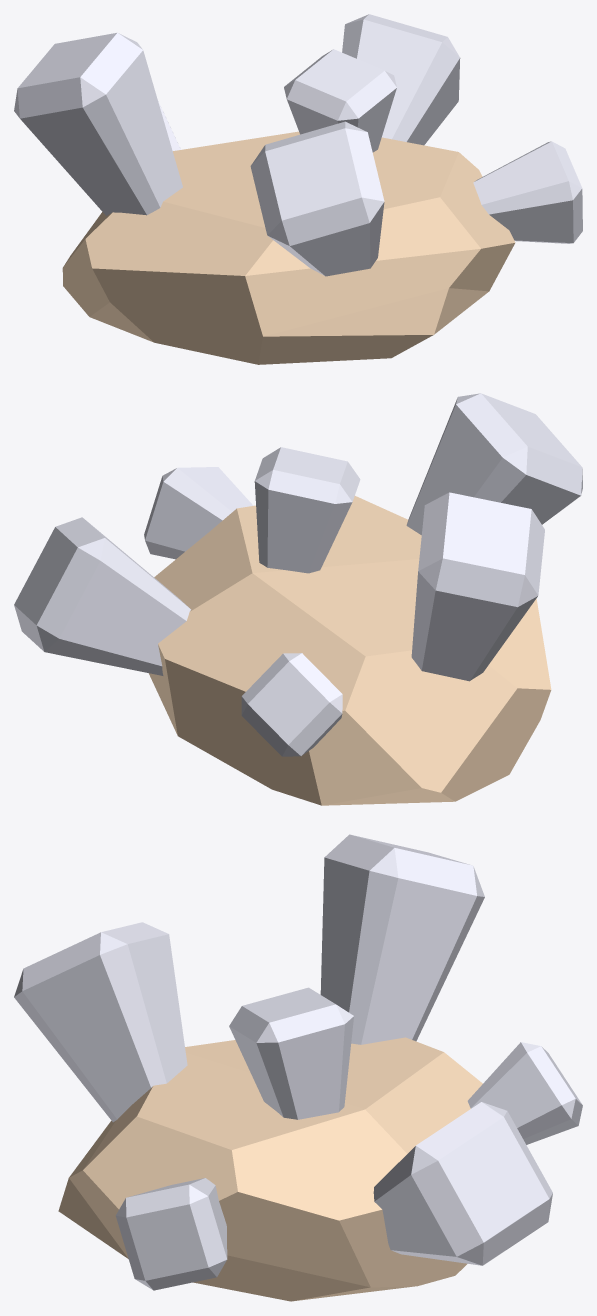
File: MineralNode_15_B.fbx
3 renders of one model, top to bottom at view 1: azimuth 30°, elevation 25°; view 2: azimuth 150°, elevation 25°; view 3: azimuth 270°, elevation 25°, orthographic. The views are drawn at different scales.
Visible parts, largest first — view 1: MineralNode_15_B; view 2: MineralNode_15_B; view 3: MineralNode_15_B.
Boxes of the visible parts, left/top/right/bottom form: MineralNode_15_B: left=14, top=14, right=582, bottom=364; MineralNode_15_B: left=14, top=393, right=582, bottom=805; MineralNode_15_B: left=14, top=834, right=582, bottom=1301.
Size of the model in its own units: 101 by 55.97 by 94.53.
